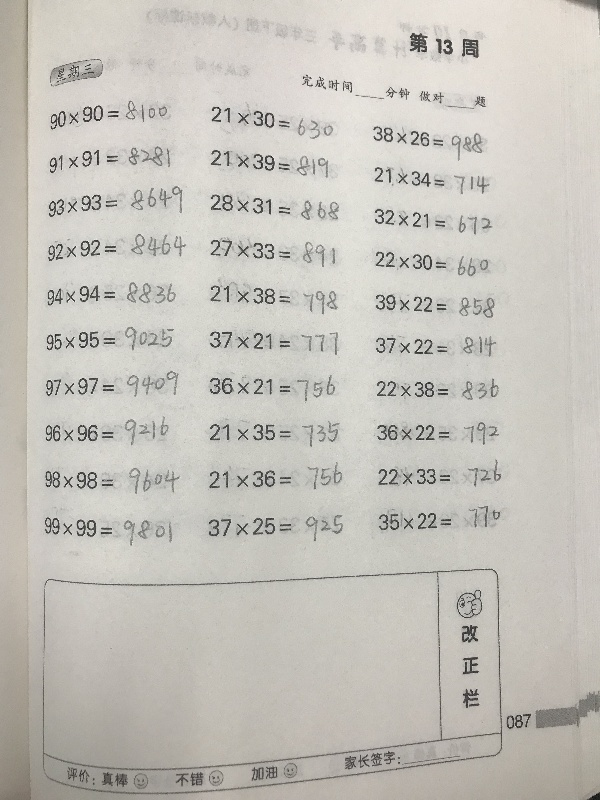equation: (47, 183, 185, 219), (205, 371, 338, 408), (206, 281, 342, 317), (46, 229, 190, 262), (36, 463, 180, 496), (41, 369, 183, 401), (206, 418, 342, 451), (205, 509, 349, 540), (40, 515, 175, 548), (41, 417, 173, 450), (42, 322, 177, 354), (205, 460, 344, 491), (368, 126, 487, 162), (207, 233, 339, 265), (206, 328, 341, 358), (372, 504, 502, 535), (375, 458, 503, 489), (43, 279, 179, 308), (207, 193, 342, 221), (45, 98, 171, 128), (372, 332, 501, 361), (45, 144, 174, 173), (371, 292, 498, 320), (207, 108, 337, 135), (207, 149, 332, 177), (371, 250, 491, 278), (373, 377, 501, 403), (370, 167, 492, 194), (373, 420, 499, 445), (371, 209, 496, 234)
